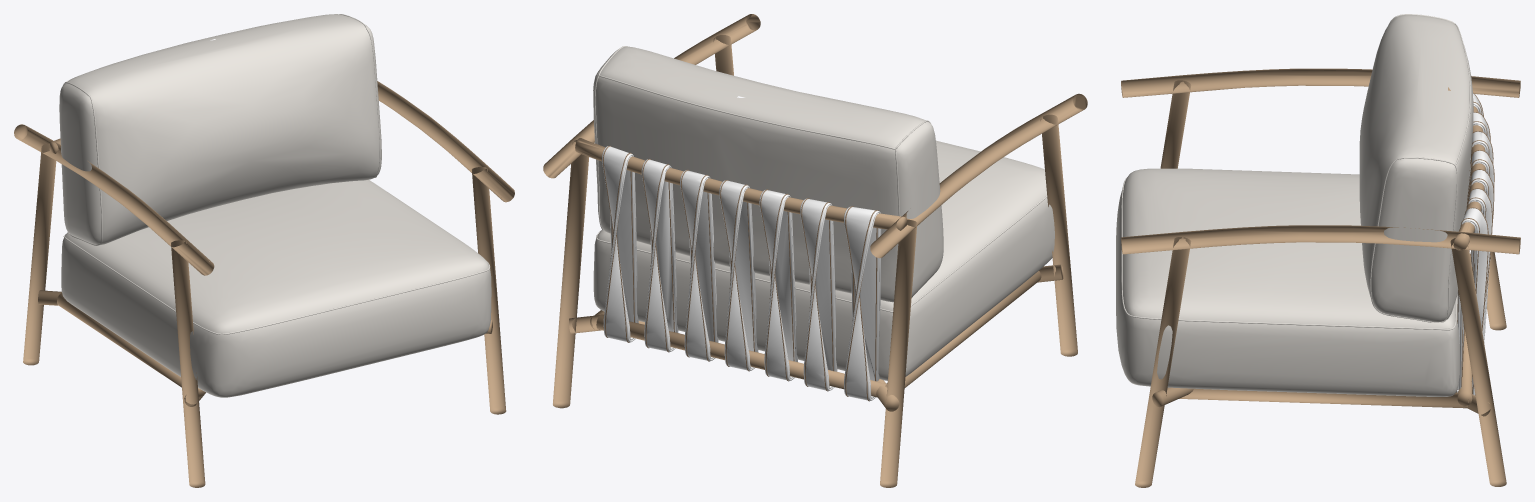
Rendered from lauren.glb.
The picture shows the model from 3 angles, left to right: view 1: azimuth 30°, elevation 25°; view 2: azimuth 150°, elevation 25°; view 3: azimuth 270°, elevation 25°; orthographic projection. The views are drawn at different scales.
Bounding box in the file's own units: 0.7894 × 0.7263 × 0.8238.
